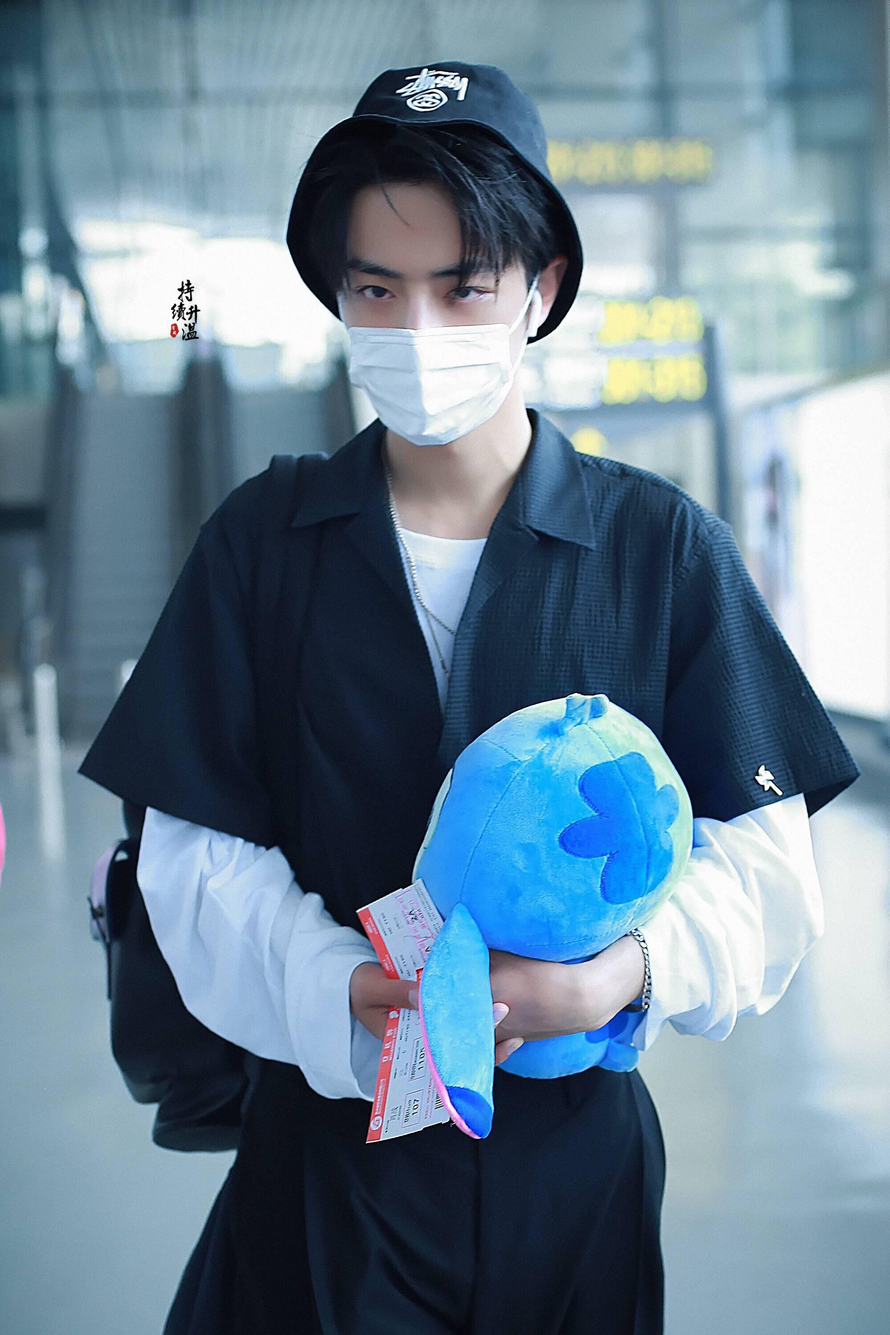OK: (341, 234, 522, 446)
